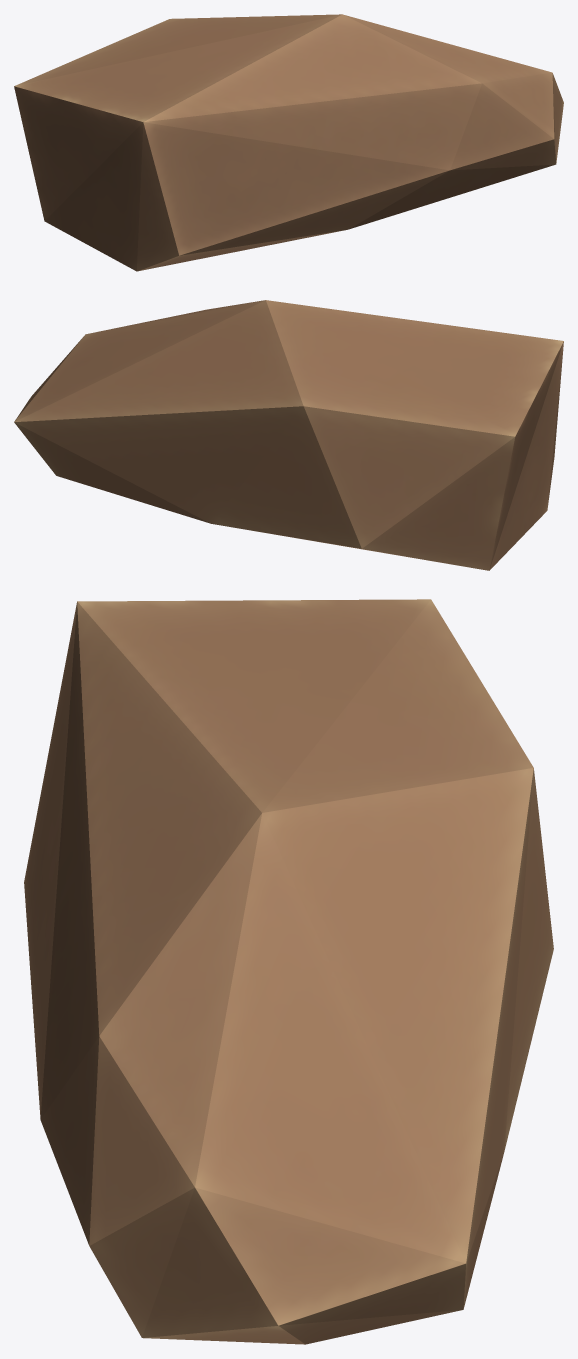
The model's file is Rock_27.fbx.
3 renders of one model, top to bottom at view 1: azimuth 30°, elevation 25°; view 2: azimuth 150°, elevation 25°; view 3: azimuth 270°, elevation 25°, orthographic. The views are drawn at different scales.
Parts seen in each view (by area): view 1: Rock_27; view 2: Rock_27; view 3: Rock_27.
Part boxes in pixels (x1=…): Rock_27: x1=14, y1=14, x2=563, y2=271; Rock_27: x1=14, y1=300, x2=563, y2=570; Rock_27: x1=24, y1=599, x2=553, y2=1344.
Size of the model in its own units: 52.59 by 23.58 by 16.98.
1 material, 1 textured.
